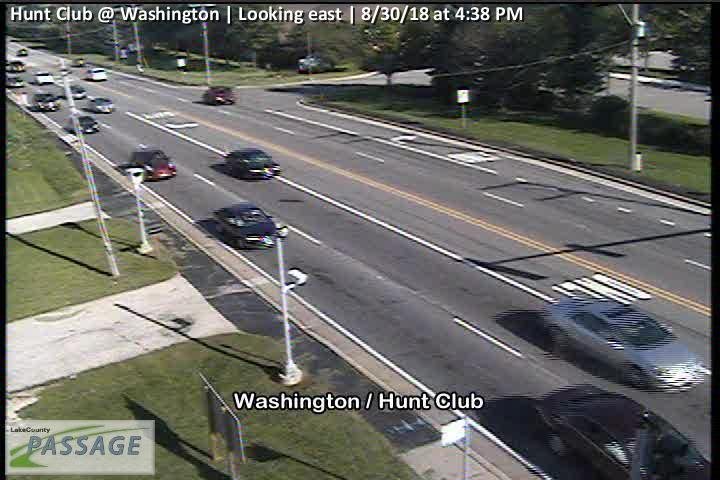Sedan: (530, 383, 711, 480), (542, 296, 704, 392), (214, 202, 277, 248), (226, 149, 281, 181), (132, 148, 176, 180), (67, 114, 97, 134), (297, 54, 330, 72), (203, 86, 233, 105), (31, 93, 60, 112), (87, 98, 114, 112), (85, 67, 106, 82), (34, 71, 53, 84)
